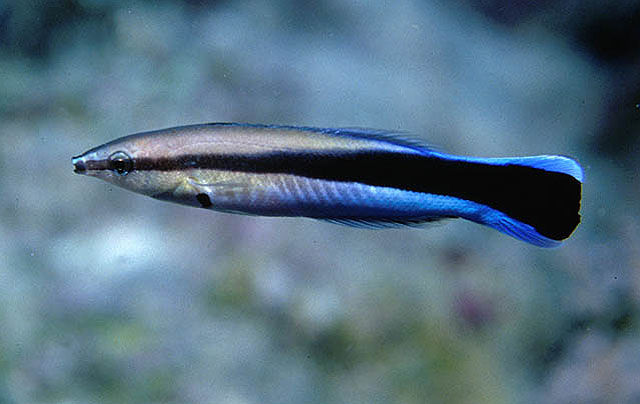fish: (72, 122, 586, 248)
